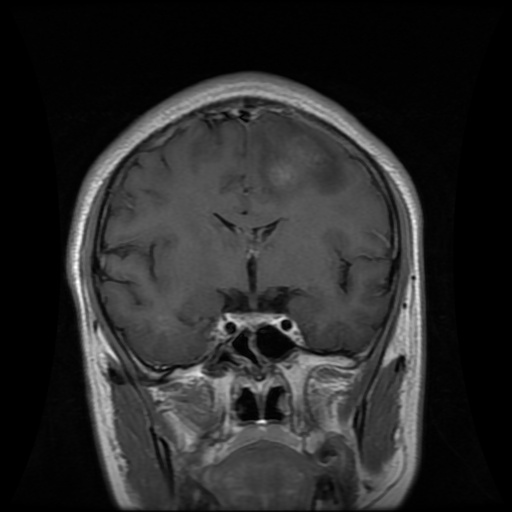glioma: (252, 114, 358, 208)
